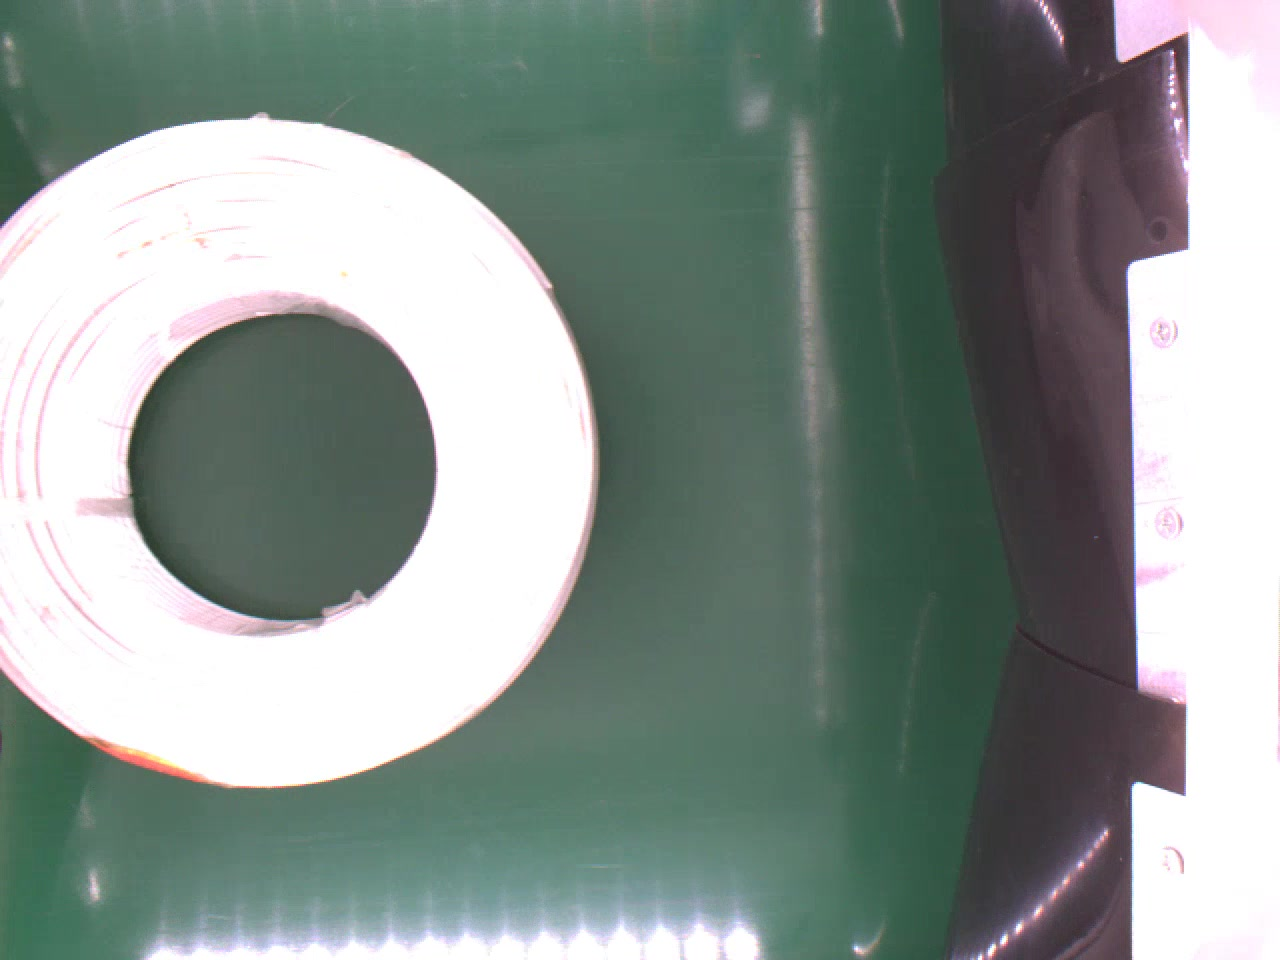white: (0, 114, 606, 800)
